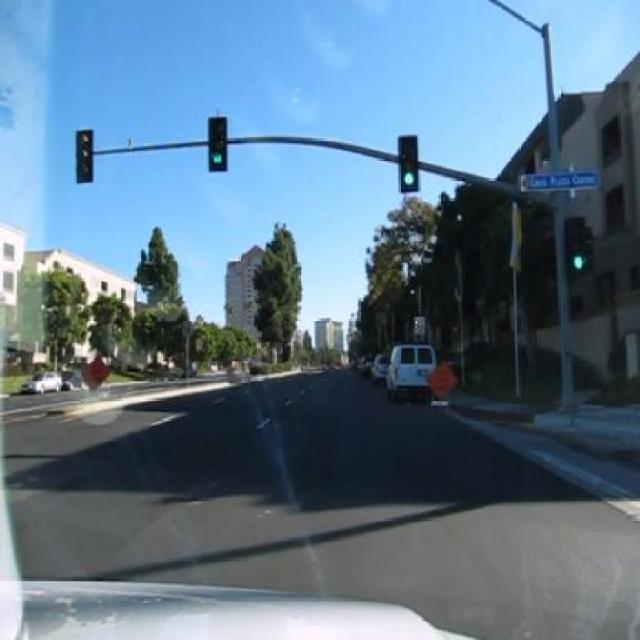speedLimit35: (414, 314, 426, 334)
